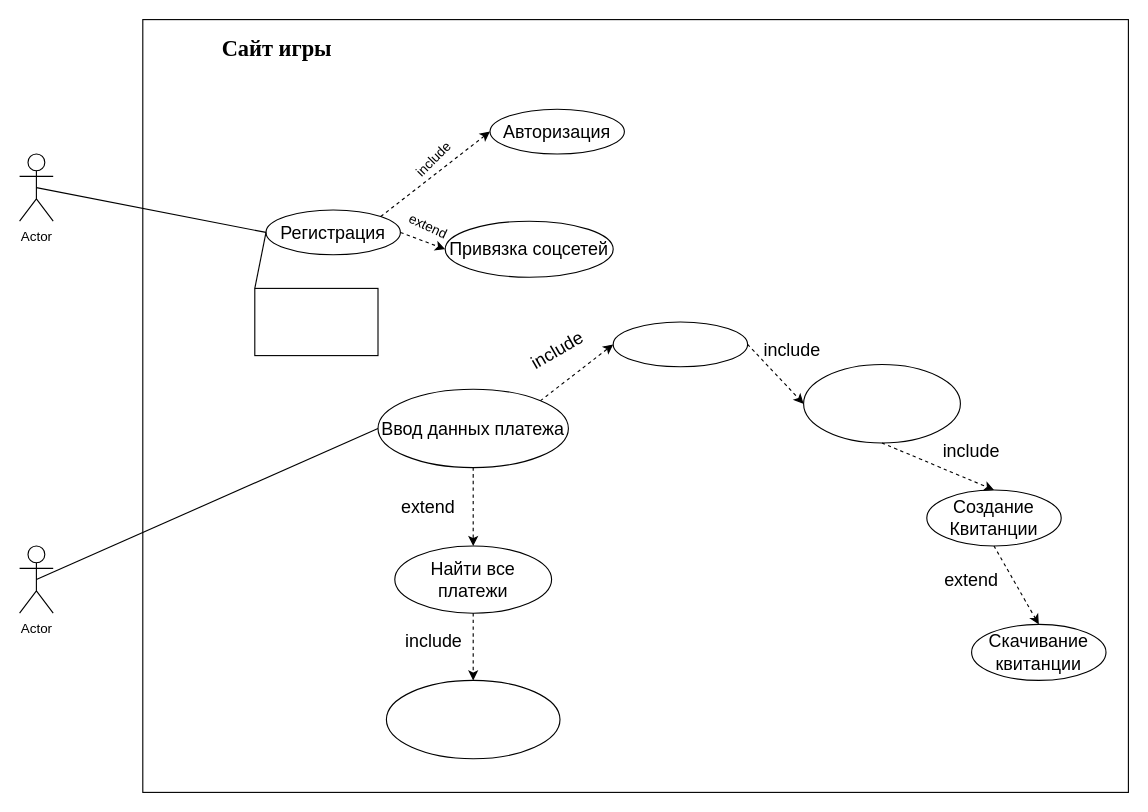
This 1148x812 diagram has some shape labels left out. Each missing label, with the centre of its shape:
Возврат денег: the point at 680,344
Запрос по блокировке транзакций: the point at 472,719
Подтверждение возврата: the point at 881,403
Почта Никнейм Пароль: the point at 316,321
